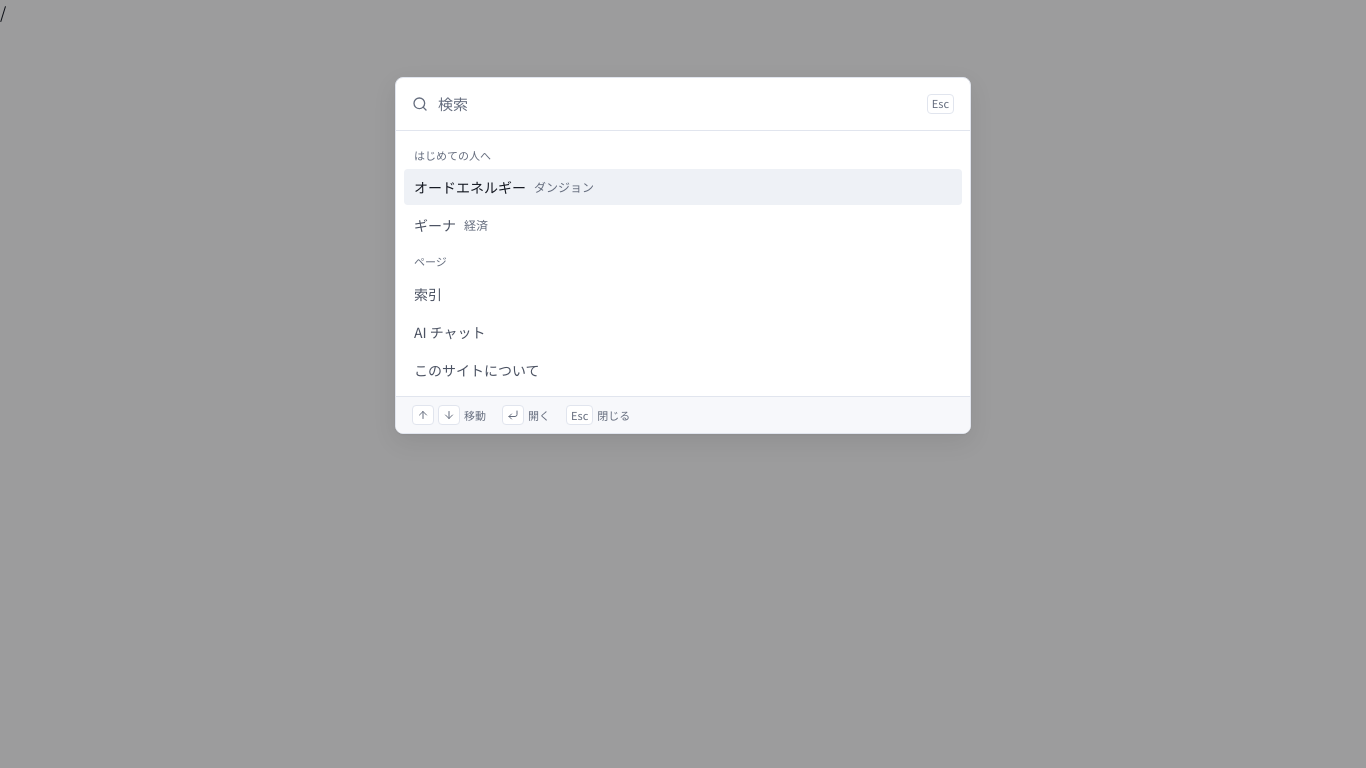
Test: CommandPalette › shows a message when nothing matches
Type "zzzzzz" into the dropdown at (677, 104), box top-left (438, 78), bottom-right (917, 130)
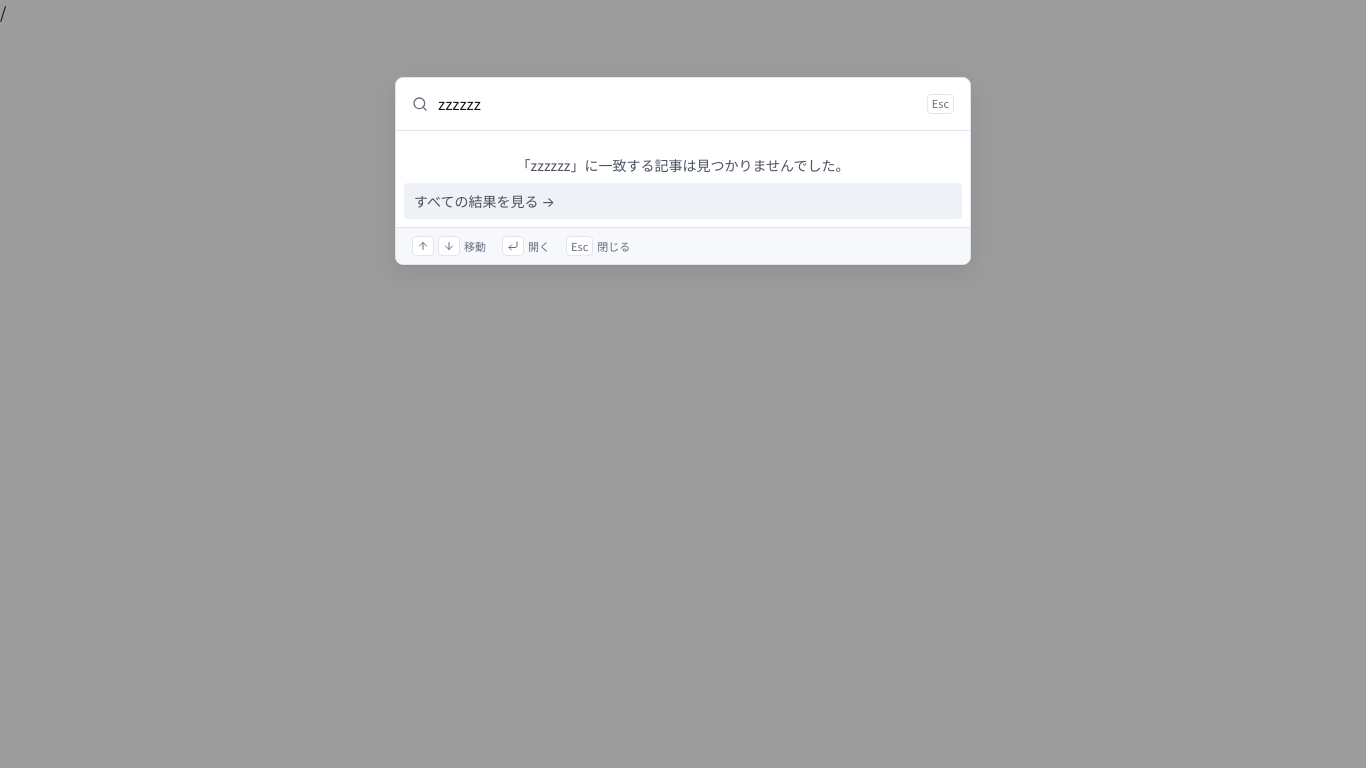
Expected: the text "「zzzzzz」に一致する記事は見つかりませんでした。" is shown, top-left (517, 155), bottom-right (849, 175)
